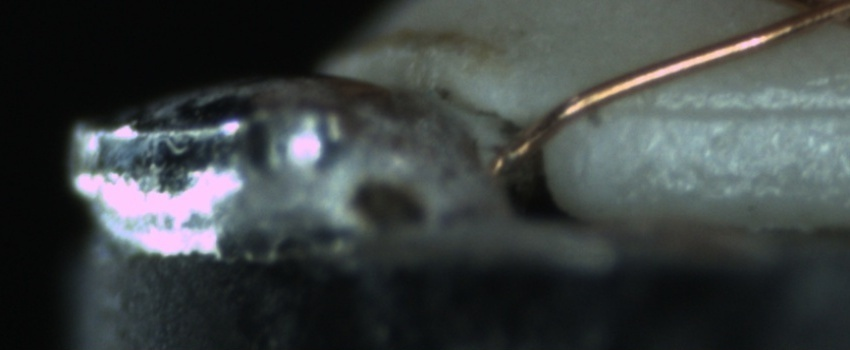CL: (773, 1, 850, 32)
DL: (619, 74, 842, 146)
